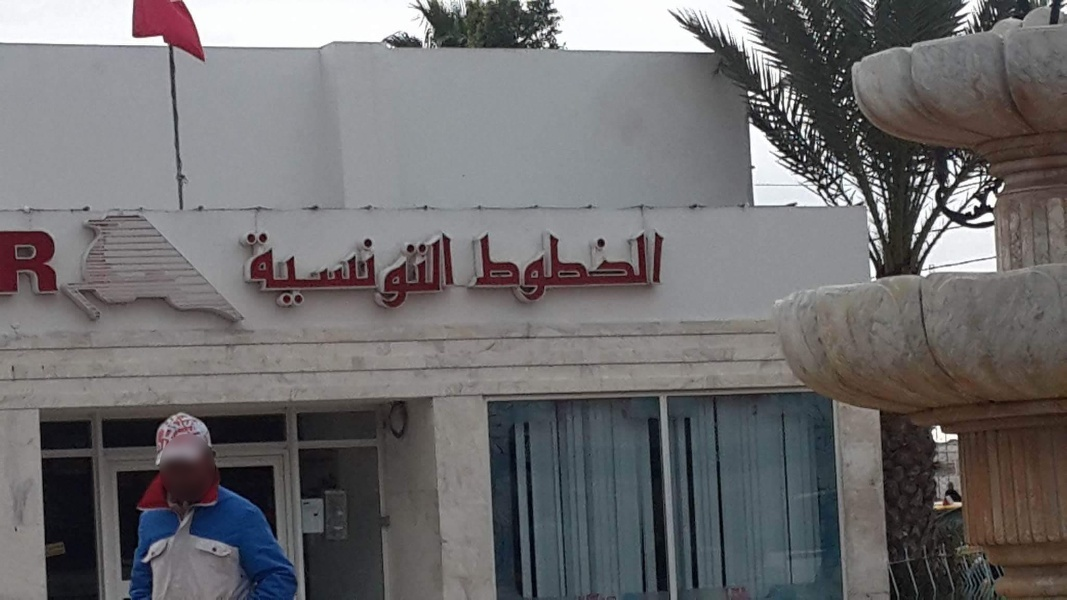text: (241, 231, 256, 310), (257, 231, 272, 310), (273, 231, 288, 310), (289, 231, 304, 310), (305, 231, 320, 310), (321, 231, 336, 310), (337, 231, 352, 310), (353, 231, 368, 310), (369, 231, 384, 310), (385, 231, 400, 310), (401, 231, 416, 310), (417, 231, 432, 310), (433, 231, 448, 310), (481, 227, 496, 305), (497, 227, 512, 305), (513, 227, 528, 305), (529, 227, 544, 305), (545, 227, 560, 305), (561, 227, 576, 305), (577, 227, 592, 305), (593, 227, 608, 305), (609, 227, 624, 305), (625, 227, 640, 305), (641, 227, 656, 305), (466, 227, 480, 305), (17, 230, 32, 297), (33, 230, 48, 297), (2, 230, 16, 297), (49, 230, 60, 297), (657, 227, 666, 305), (449, 231, 456, 310)
